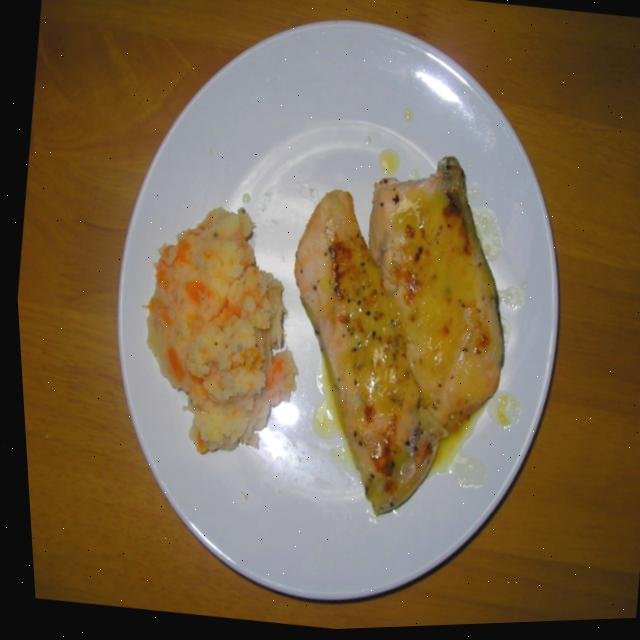熟制海鲜: (279, 141, 512, 535)
